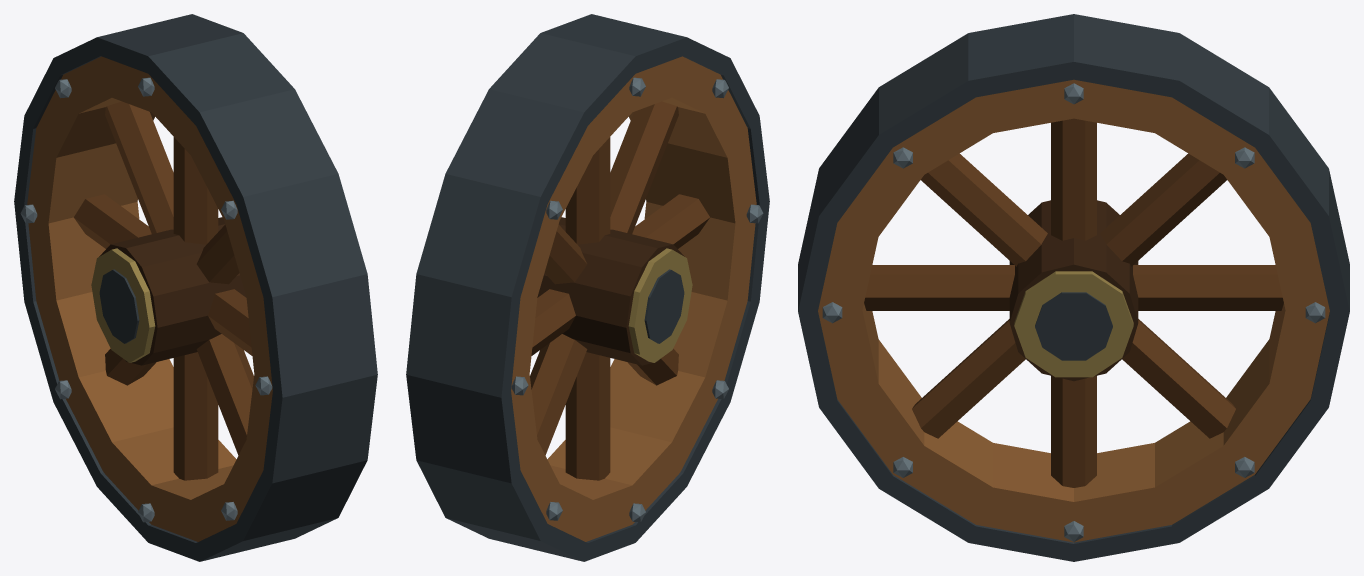
File: WheelFrontLeft.glb
The picture shows the model from 3 angles, left to right: view 1: azimuth 30°, elevation 25°; view 2: azimuth 150°, elevation 25°; view 3: azimuth 270°, elevation 25°; orthographic projection. The views are drawn at different scales.
Parts seen in each view (by area): view 1: Sculpture; view 2: Sculpture; view 3: Sculpture.
Part boxes in pixels (x1,y1,x2,y2): Sculpture: [14, 14, 377, 561]; Sculpture: [406, 14, 769, 561]; Sculpture: [798, 14, 1349, 561].
Size of the model in its own units: 0.4 by 1.2 by 1.2.
